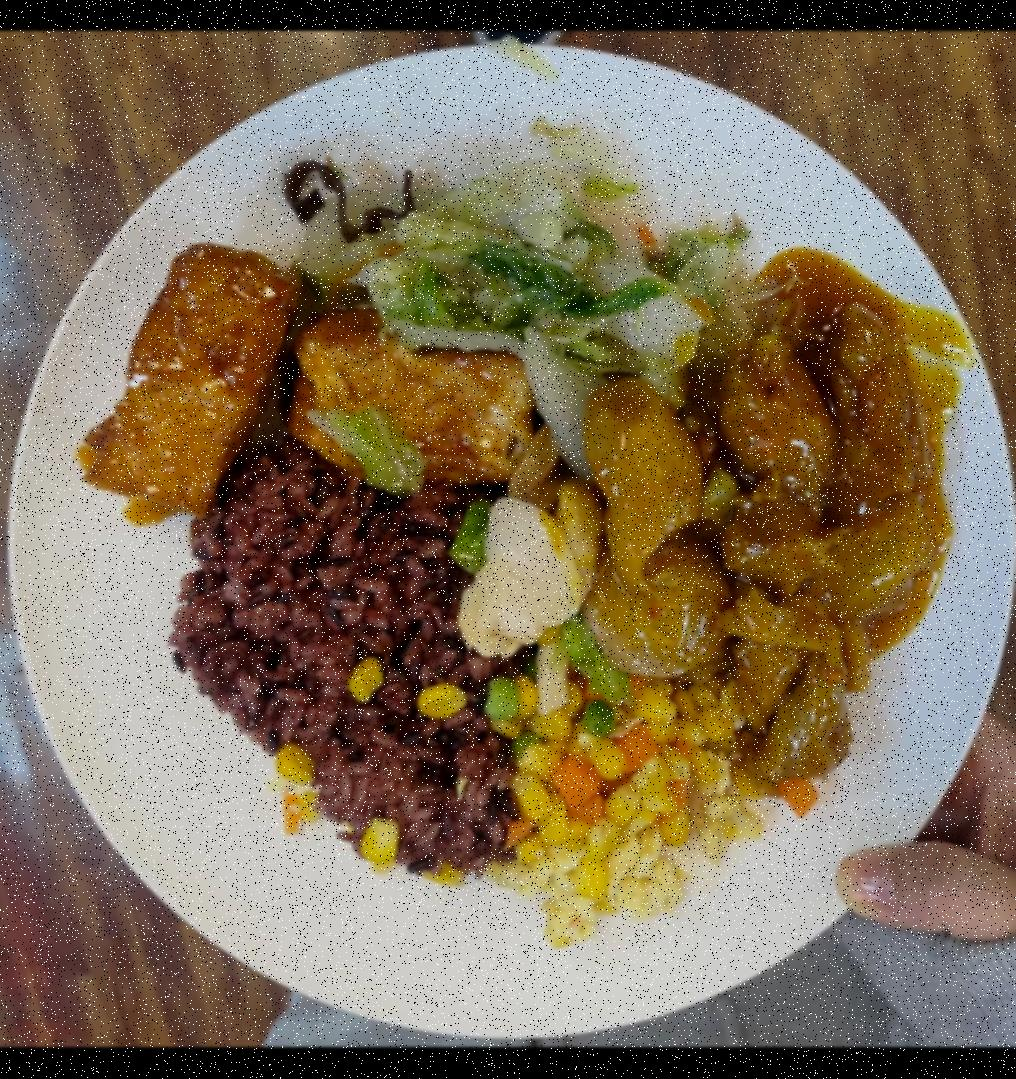curry chicken: (592, 307, 950, 797)
plate: (0, 47, 1016, 1043)
purple rice: (169, 440, 542, 874)
side dish: (76, 241, 530, 524), (359, 160, 747, 376), (513, 640, 749, 936)
